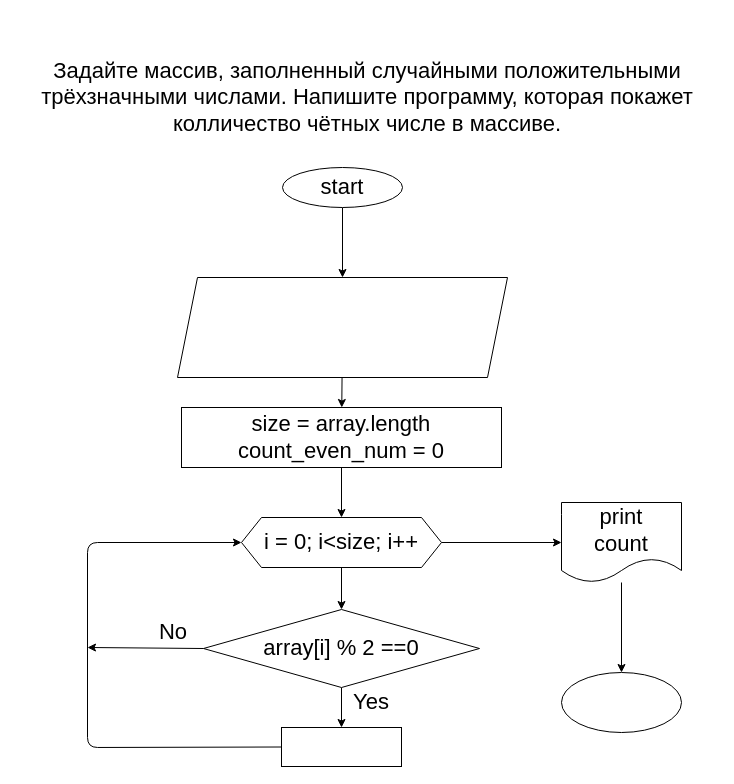
Image size: 734x784. Some labels were removed from this diagram. Each missing label, with the box of its shape:
array [size] array[i] = Random (100; 999): (176, 276, 508, 378)
count ++: (280, 726, 402, 766)
end: (560, 672, 682, 732)
